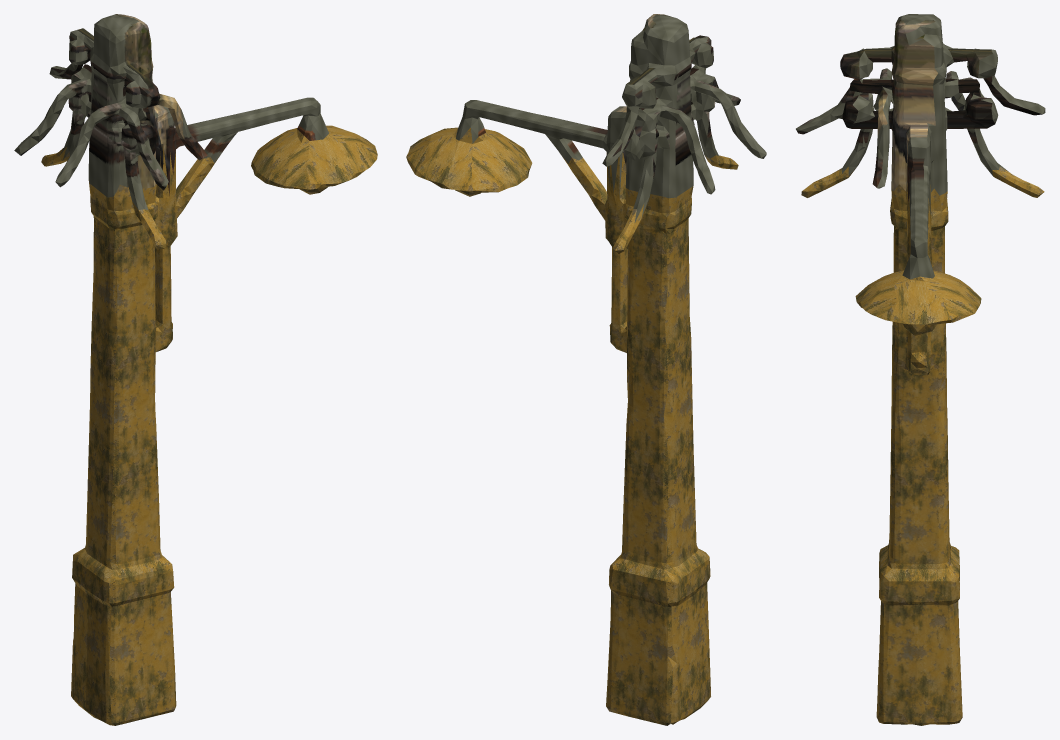
File: power_pole_reduced.glb
3 views of the same model, side by side, from view 1: azimuth 30°, elevation 25°; view 2: azimuth 150°, elevation 25°; view 3: azimuth 270°, elevation 25° (orthographic).
Visible parts, largest first — view 1: TiledBody, PatchedDetails; view 2: TiledBody, PatchedDetails; view 3: TiledBody, PatchedDetails.
Part boxes in pixels (x1=…): TiledBody: x1=41, y1=125, x2=377, y2=725; PatchedDetails: x1=14, y1=14, x2=328, y2=209; TiledBody: x1=406, y1=127, x2=738, y2=725; PatchedDetails: x1=456, y1=14, x2=766, y2=222; TiledBody: x1=801, y1=166, x2=1044, y2=725; PatchedDetails: x1=796, y1=14, x2=1045, y2=279.
Bounding box in the file's own units: 1.01 × 1.99 × 0.6531.
2 materials, 2 textured.
